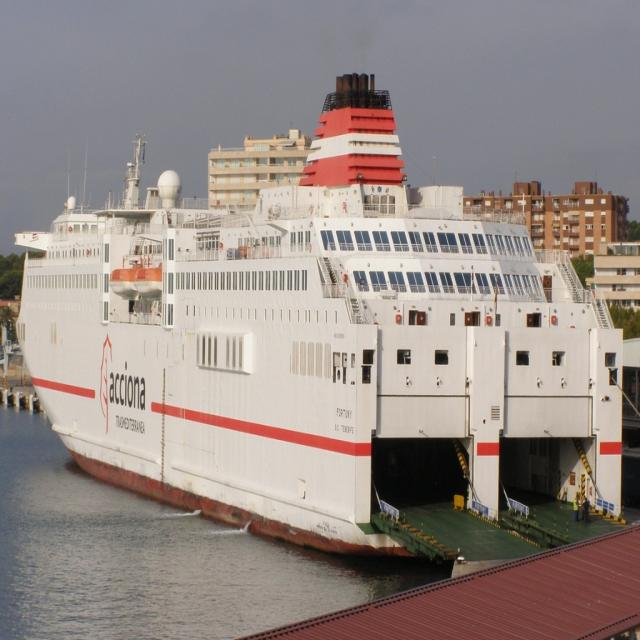Boat: (9, 68, 628, 564)
